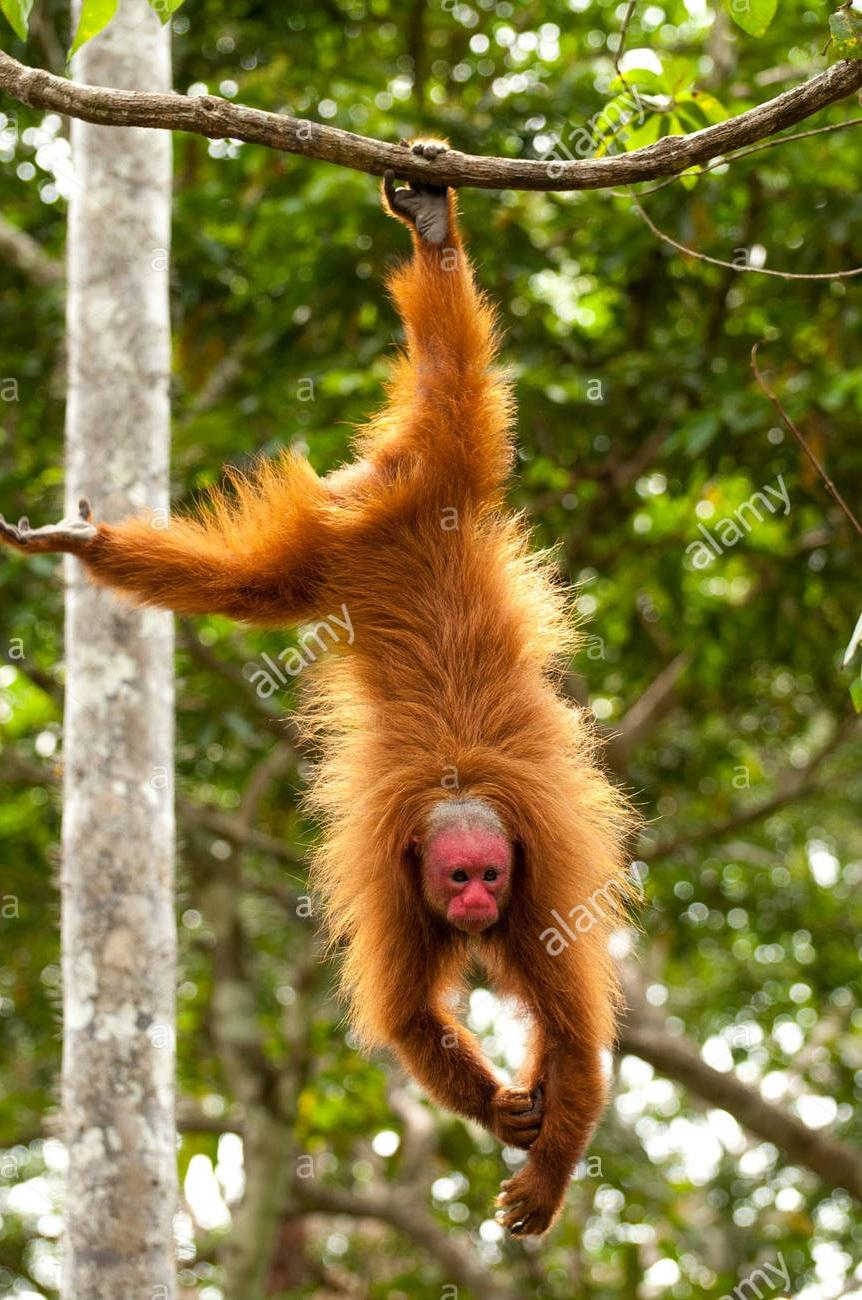monkey: (0, 194, 639, 1247)
